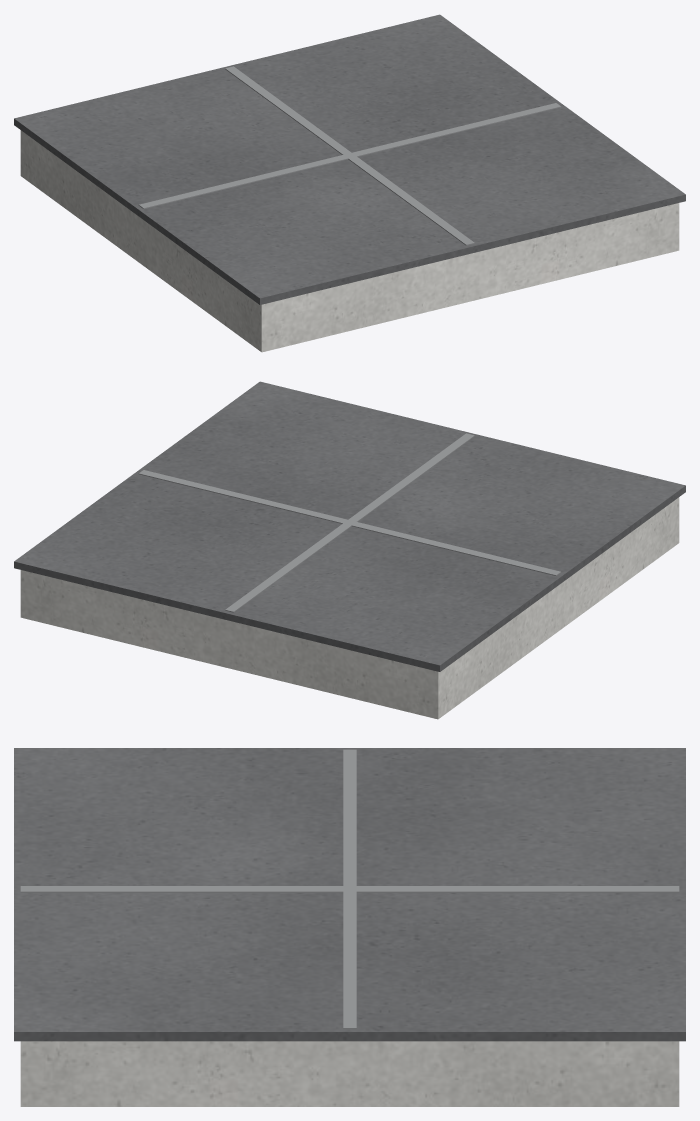
Rendered from floor_membrane_r.glb.
The picture shows the model from 3 angles, top to bottom: view 1: azimuth 30°, elevation 25°; view 2: azimuth 150°, elevation 25°; view 3: azimuth 270°, elevation 25°; orthographic projection. The views are drawn at different scales.
Visible parts, largest first — view 1: floor_membrane_r_membrane, floor_membrane_r_plaster, floor_membrane_r_seam; view 2: floor_membrane_r_membrane, floor_membrane_r_plaster, floor_membrane_r_seam; view 3: floor_membrane_r_membrane, floor_membrane_r_plaster, floor_membrane_r_seam.
Part boxes in pixels (x1=…): floor_membrane_r_membrane: x1=14, y1=14, x2=685, y2=304; floor_membrane_r_plaster: x1=20, y1=130, x2=679, y2=352; floor_membrane_r_seam: x1=138, y1=66, x2=561, y2=245; floor_membrane_r_membrane: x1=14, y1=381, x2=685, y2=671; floor_membrane_r_plaster: x1=20, y1=497, x2=679, y2=719; floor_membrane_r_seam: x1=138, y1=433, x2=561, y2=612; floor_membrane_r_membrane: x1=14, y1=748, x2=685, y2=1041; floor_membrane_r_plaster: x1=20, y1=1041, x2=679, y2=1106; floor_membrane_r_seam: x1=20, y1=749, x2=679, y2=1029.
Size of the model in its own units: 2 by 0.259 by 2.
Materials: 3 (2 with a texture image).
